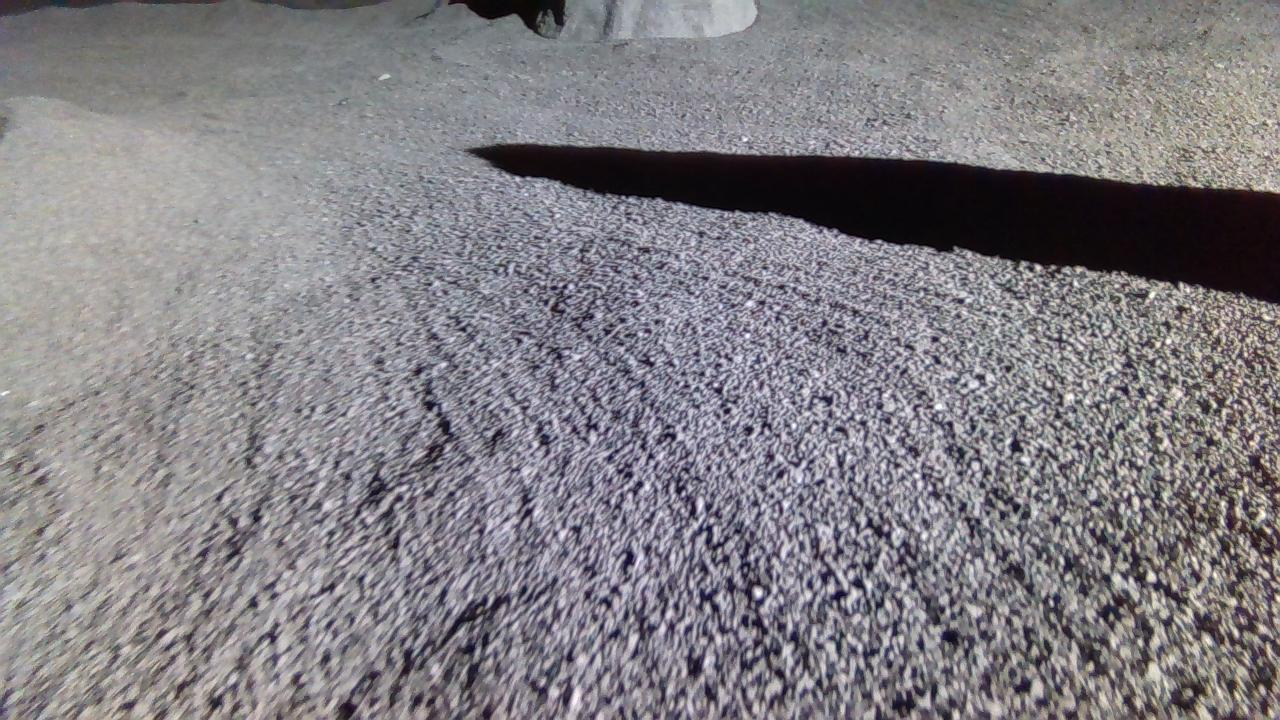rock: (534, 0, 759, 41)
